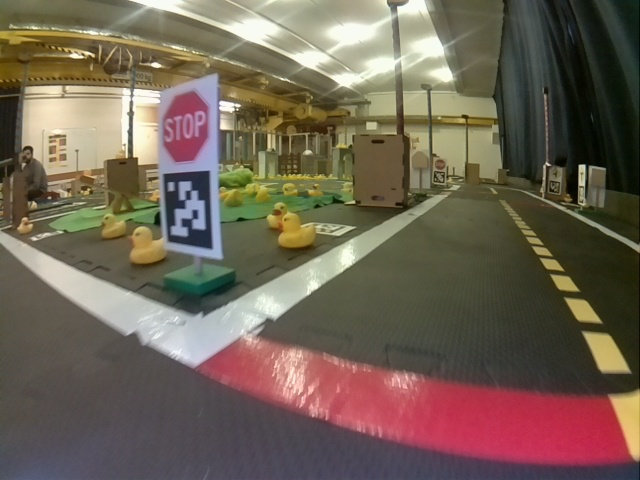Duckie: (130, 229, 166, 264), (281, 214, 312, 247), (100, 214, 127, 238), (269, 203, 286, 228), (18, 217, 33, 234), (227, 191, 243, 206), (255, 188, 271, 202), (283, 183, 297, 196), (313, 187, 323, 196)
QR code: (159, 172, 213, 249), (300, 221, 355, 236), (433, 174, 444, 184)
Stop sign: (162, 97, 219, 167), (434, 158, 446, 168)
